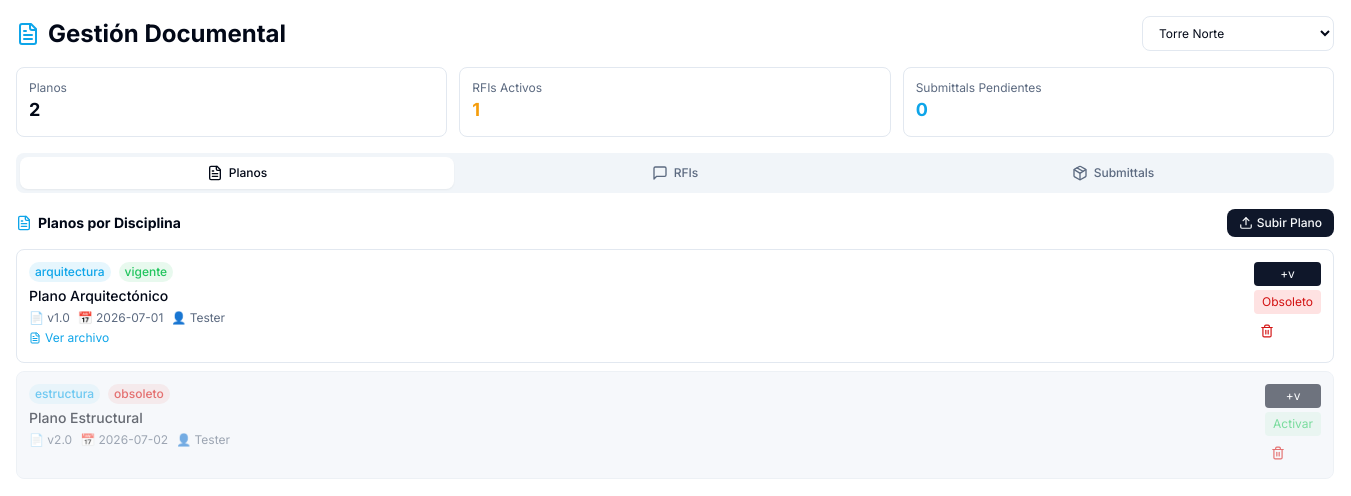
GestionDocumental Screen › Estado vacío por tab › muestra mensaje cuando no hay submittals
What coordinates should you click on to do the following:
click the button labelled "Submittals"
I would click on:
 (1113, 173)
Its box is [896,157,1330,189].
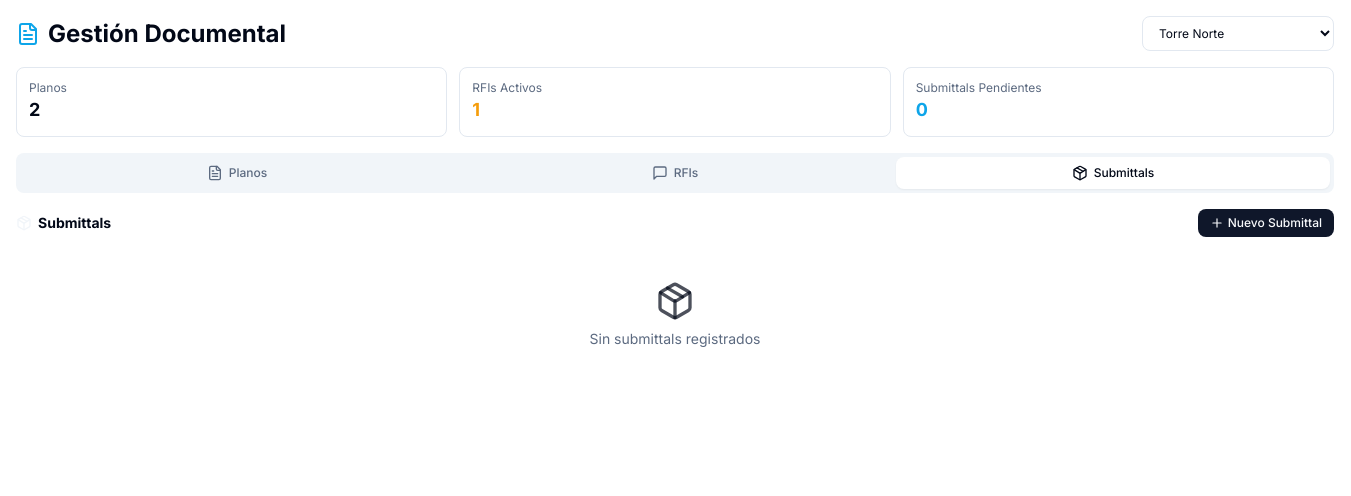
Now the text "Sin submittals registrados" is shown, box [590,330,760,347]
